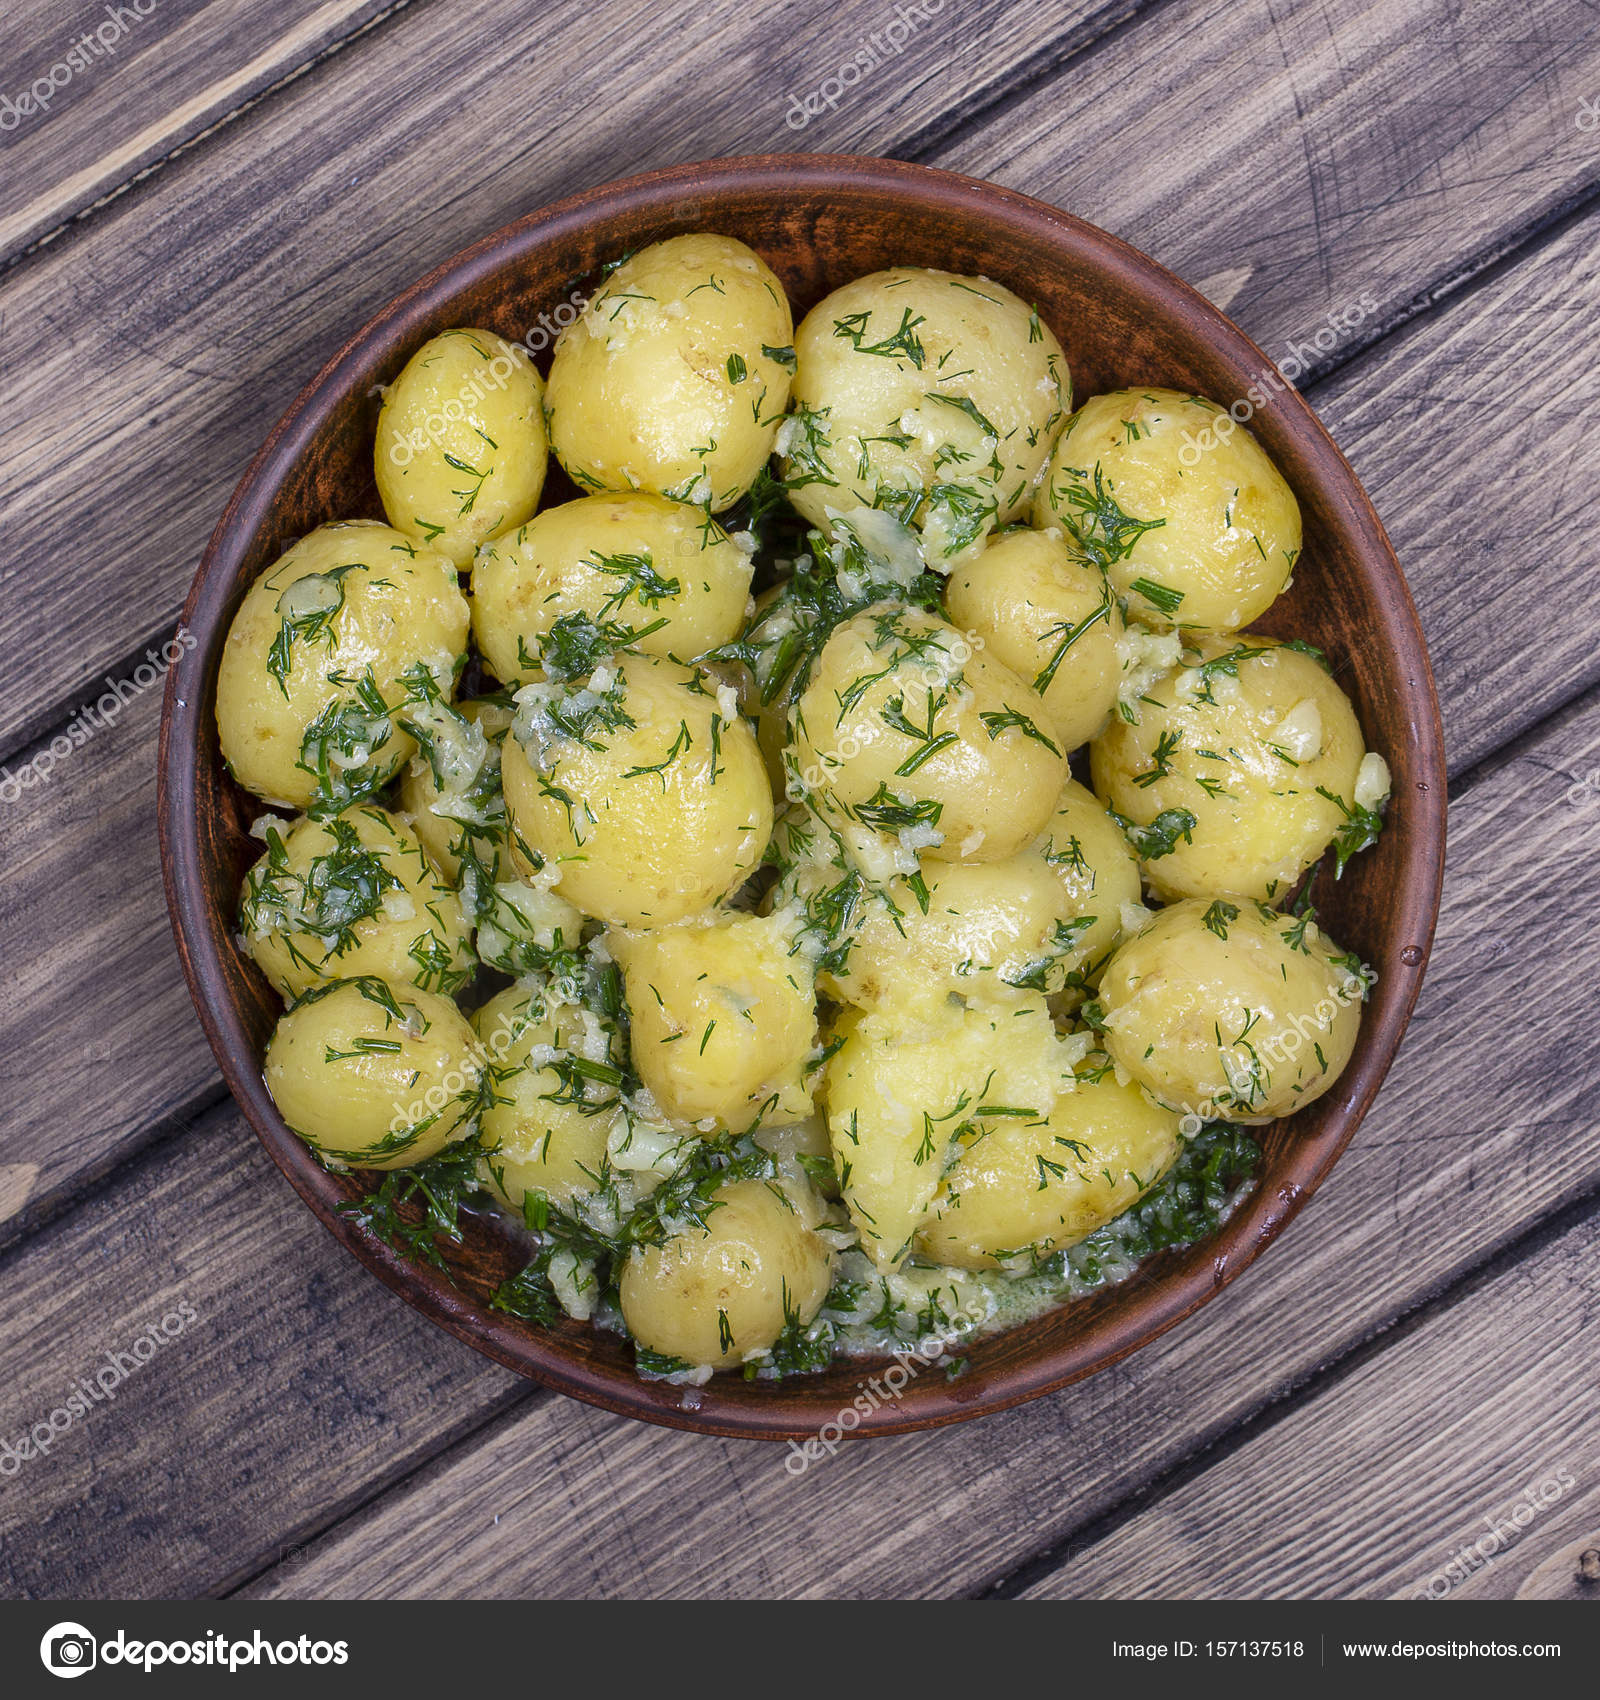boiled potatoes: (371, 377, 1180, 1242)
